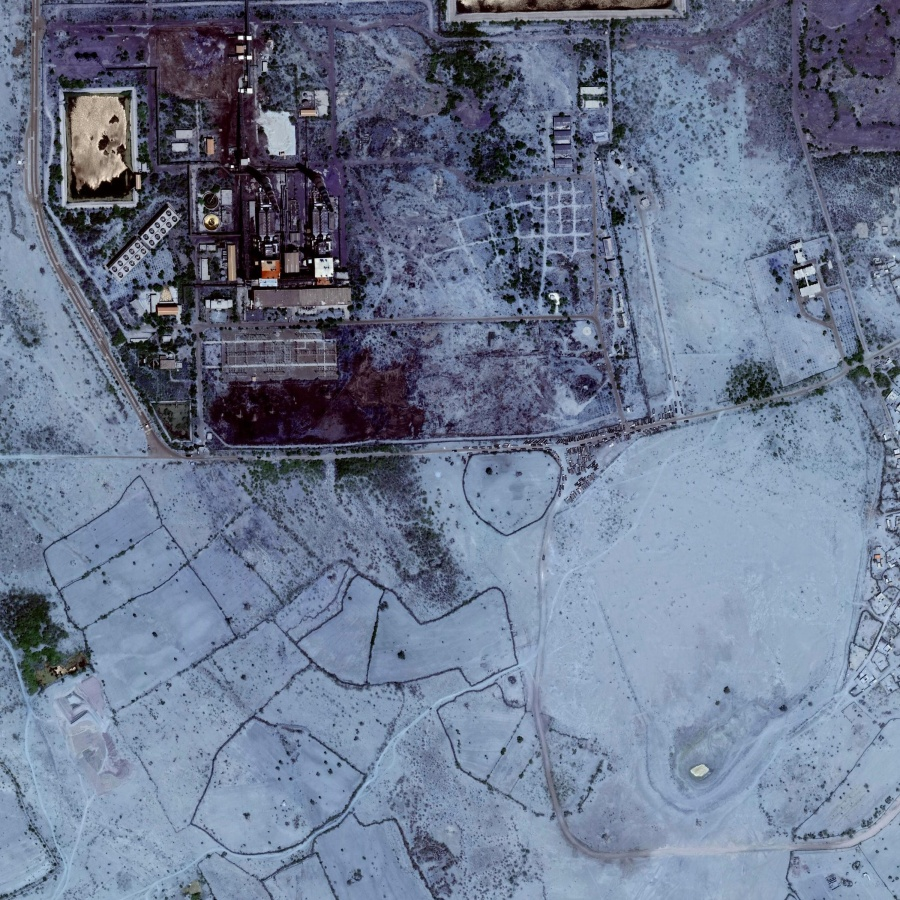PowerPlant: (46, 4, 417, 442)
